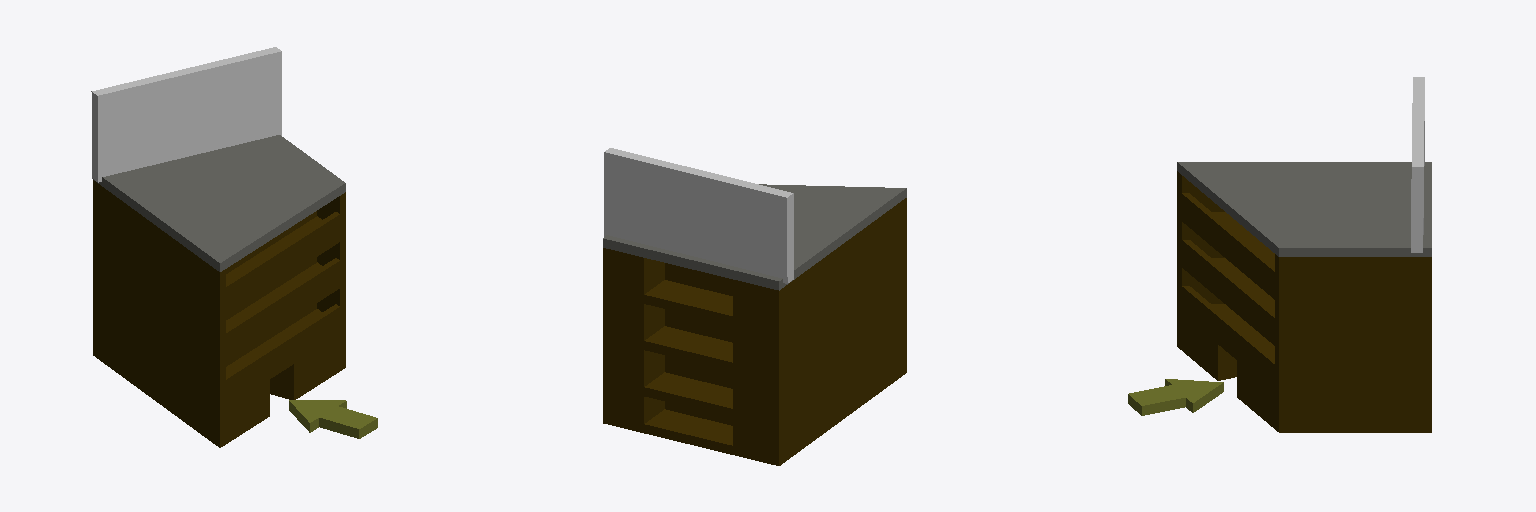
3 views of the same model, side by side, from view 1: azimuth 30°, elevation 25°; view 2: azimuth 150°, elevation 25°; view 3: azimuth 270°, elevation 25° (orthographic).
Parts seen in each view (by area): view 1: lll5.001, Cube.005_Cube.001; view 2: lll5.001, Cube.005_Cube.001; view 3: lll5.001, Cube.005_Cube.001.
Part boxes in pixels (x1,y1,x2,y2): lll5.001: (93,135,377,447); Cube.005_Cube.001: (91,47,281,182); lll5.001: (603,184,906,465); Cube.005_Cube.001: (604,148,793,283); lll5.001: (1128,162,1431,432); Cube.005_Cube.001: (1411,77,1424,252).
Size of the model in its own units: 20.82 by 29.03 by 29.83.